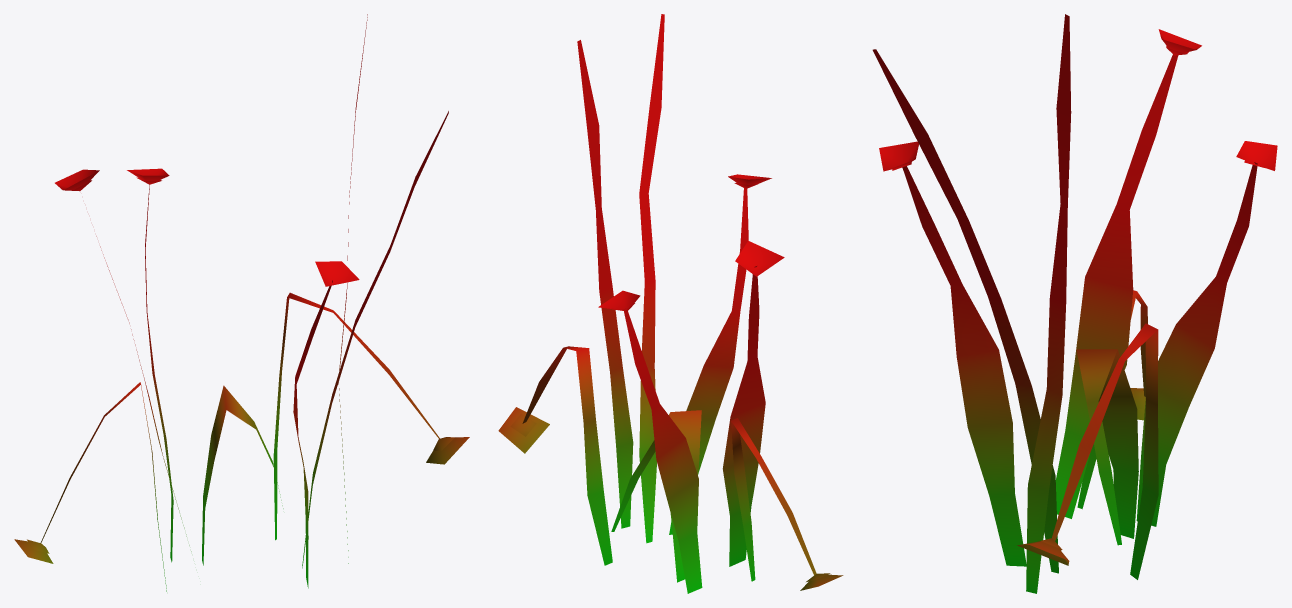
Rendered from White Everlasting_LOD4_Var9_ucvobbbia.fbx.
3 renders of one model, left to right at view 1: azimuth 30°, elevation 25°; view 2: azimuth 150°, elevation 25°; view 3: azimuth 270°, elevation 25°, orthographic. The views are drawn at different scales.
Visible parts, largest first — view 1: _2b62_Var9_LOD4; view 2: _2b62_Var9_LOD4; view 3: _2b62_Var9_LOD4.
Boxes of the visible parts, bbox=[...] form: _2b62_Var9_LOD4: bbox=[14, 14, 469, 591]; _2b62_Var9_LOD4: bbox=[498, 14, 843, 593]; _2b62_Var9_LOD4: bbox=[872, 14, 1277, 593].
Bounding box in the file's own units: 35.17 × 44.99 × 27.49.
